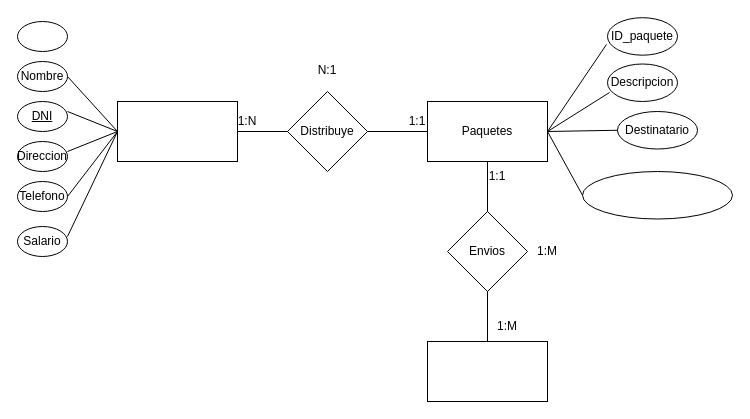
The diagram is 750 pixels wide and 419 high, and some of its shapes have lost their labels. Here are the shapes that lost their labels. From the top down, the centre of each, then its label:
At point 42,36: "Domicilio".
At point 177,131: "Camionero".
At point 657,194: "Direccion:del_destinatario".
At point 487,371: "Provincia".
